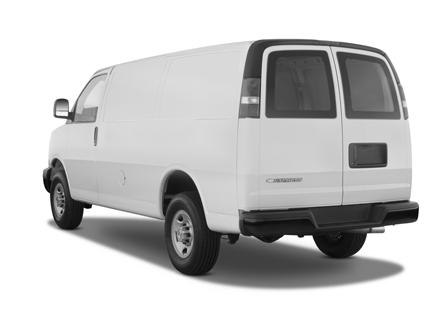car: (45, 41, 420, 280)
